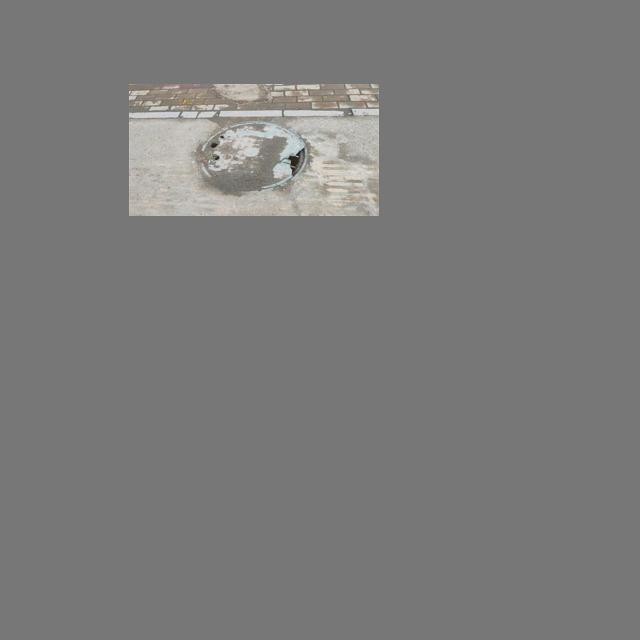broke: (191, 119, 314, 195)
